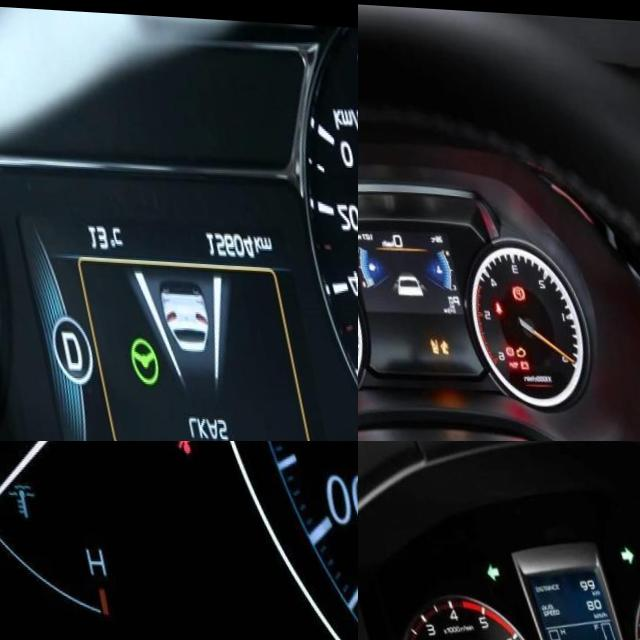Seat Belt: (481, 295, 492, 311)
